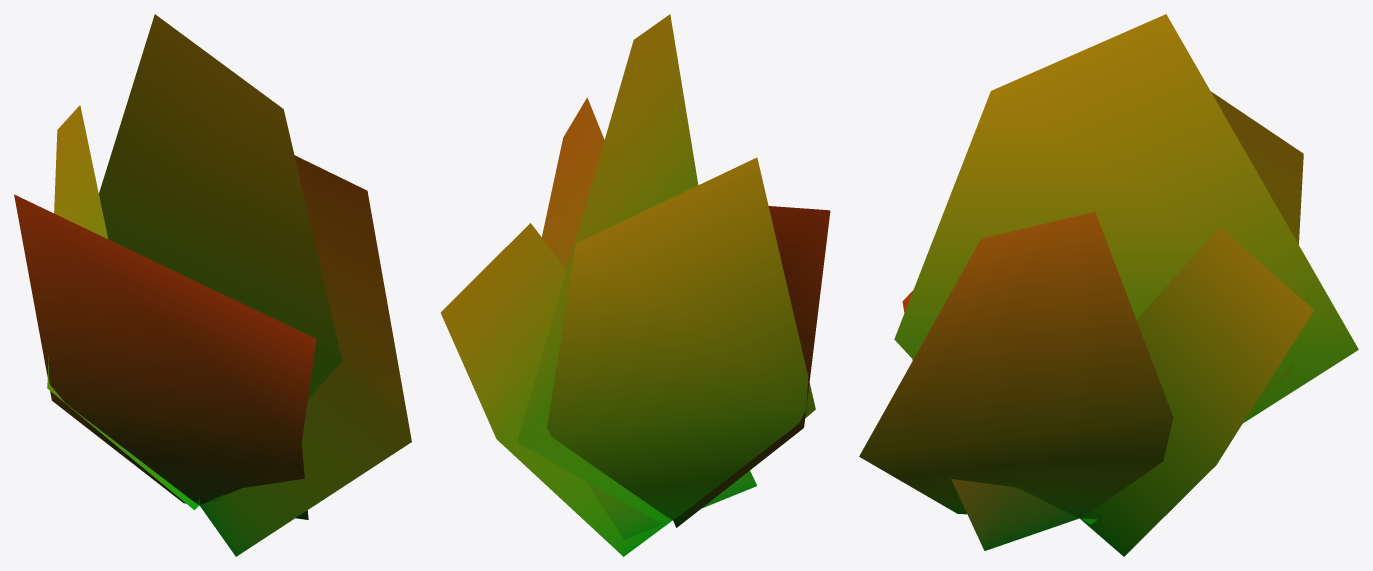
The model's file is Ocean Seaweed_LOD1_Var2_sdDgS.fbx.
3 renders of one model, left to right at view 1: azimuth 30°, elevation 25°; view 2: azimuth 150°, elevation 25°; view 3: azimuth 270°, elevation 25°, orthographic. The views are drawn at different scales.
Parts seen in each view (by area): view 1: _ggwx_Var2_LOD1; view 2: _ggwx_Var2_LOD1; view 3: _ggwx_Var2_LOD1.
Part boxes in pixels (<box>): _ggwx_Var2_LOD1: <box>14,14,411,556</box>; _ggwx_Var2_LOD1: <box>440,14,830,556</box>; _ggwx_Var2_LOD1: <box>859,14,1358,556</box>.
Size of the model in its own units: 28.28 by 45.98 by 39.47.
